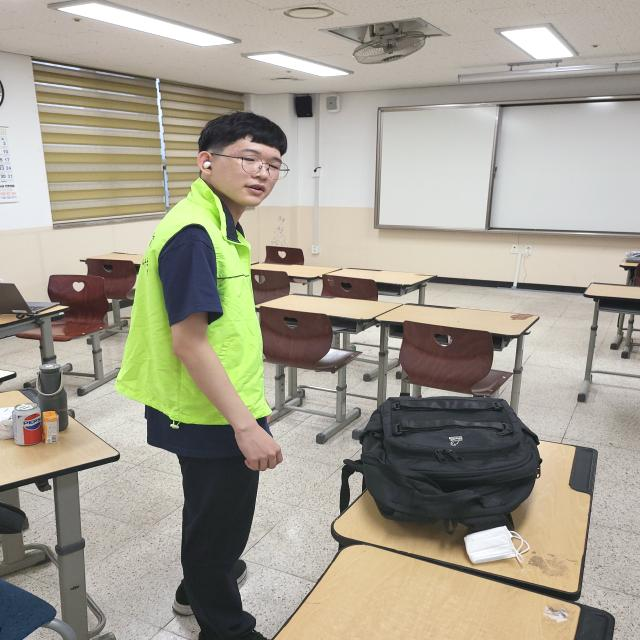weston_spy: (99, 167, 292, 452)
